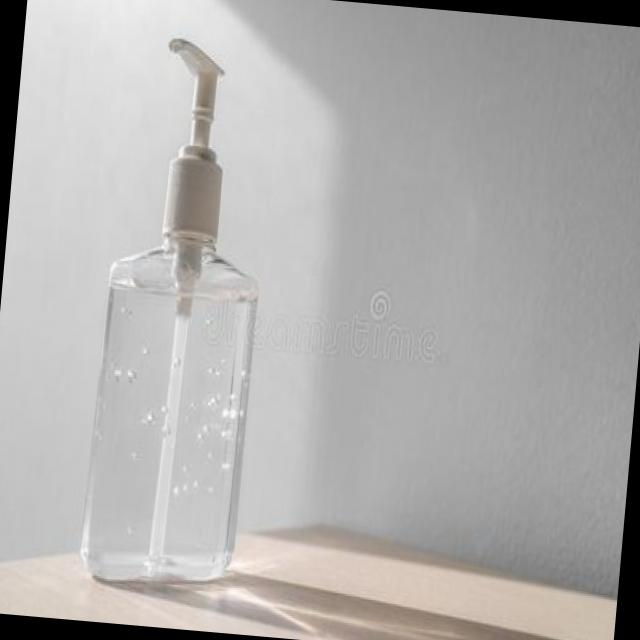sanitizer: (74, 29, 280, 590)
